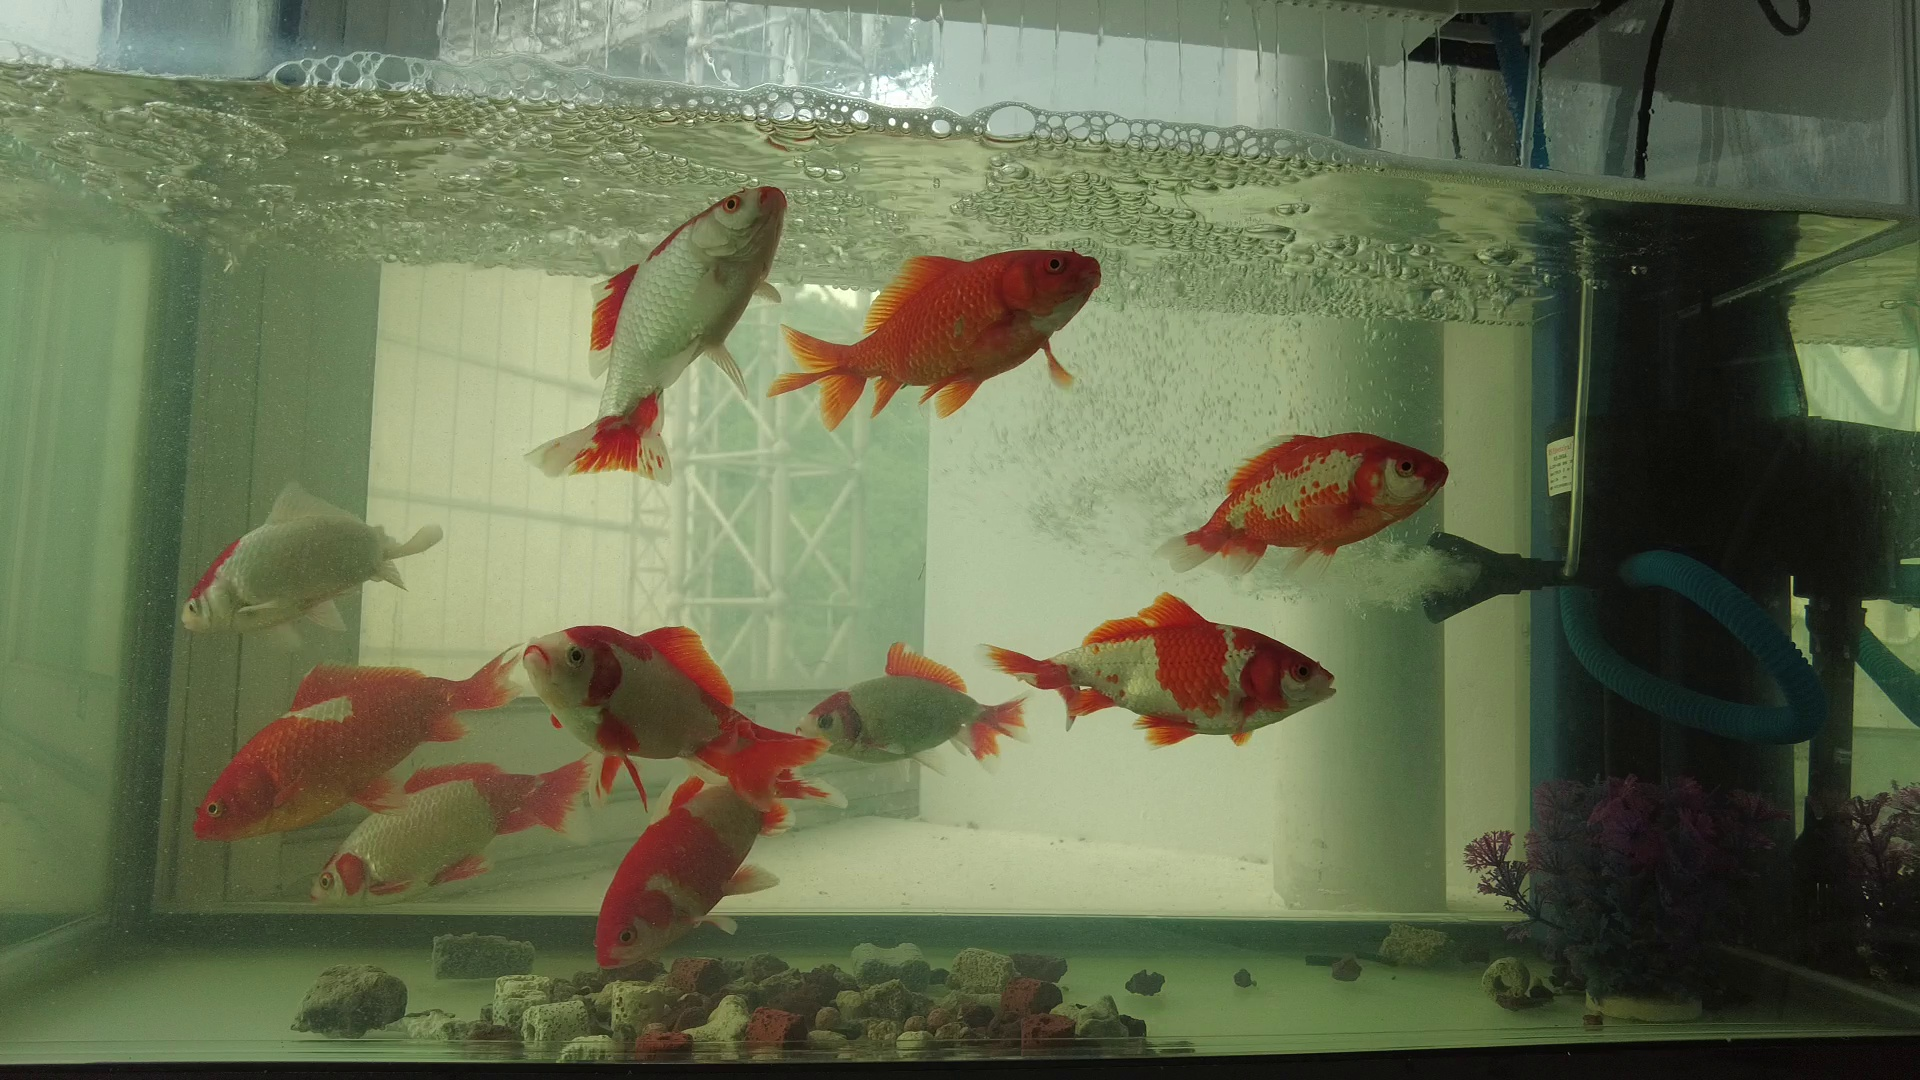fish: (514, 178, 796, 493), (183, 637, 535, 851), (760, 241, 1114, 442), (516, 613, 840, 822), (967, 582, 1349, 756), (589, 735, 861, 978), (1153, 427, 1458, 603), (175, 472, 452, 662), (305, 744, 615, 913), (787, 634, 1040, 783)
